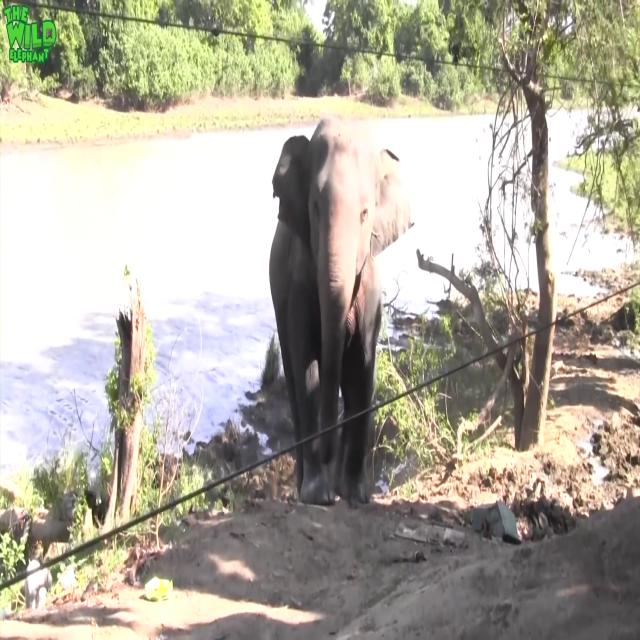Elephant: (269, 114, 413, 506)
